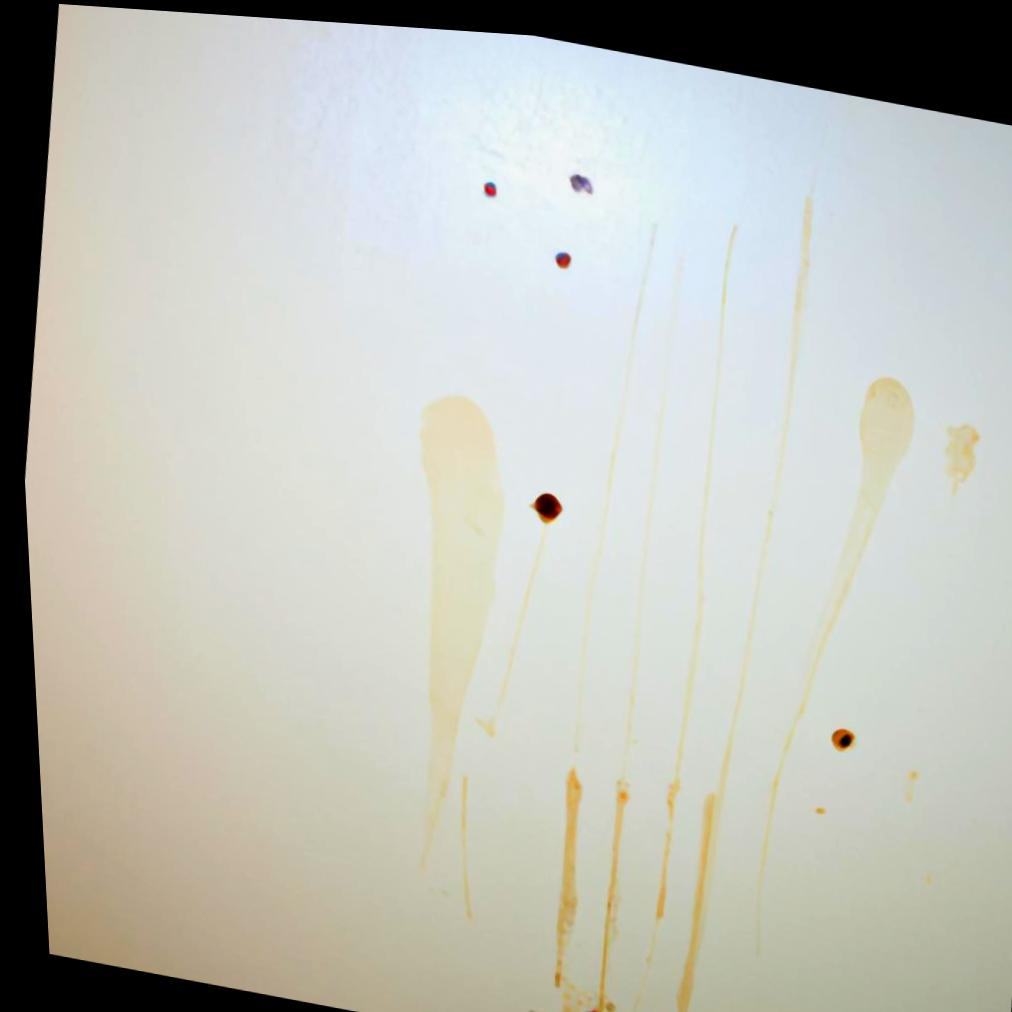Fire: (523, 485, 557, 516)
